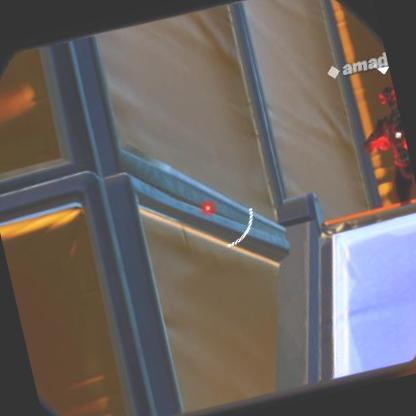person: (366, 82, 416, 206)
